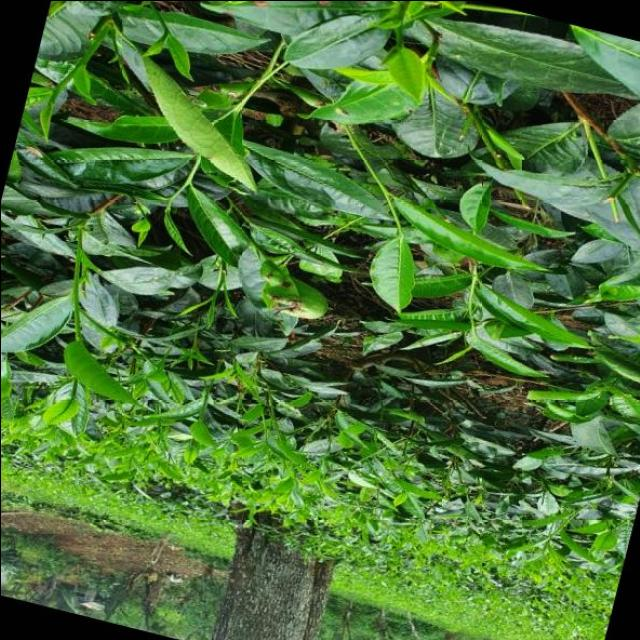Stem: (74, 305, 79, 312), (219, 277, 224, 284), (472, 334, 476, 338), (168, 197, 172, 201)
